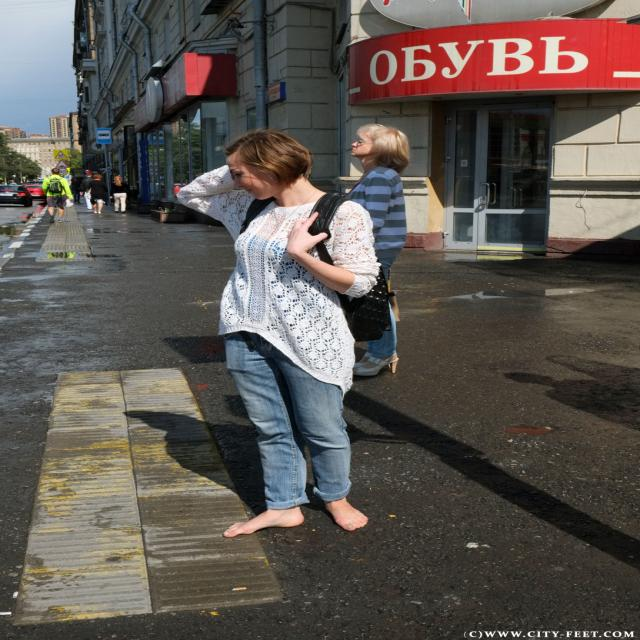Barefoots: (222, 509, 305, 537), (324, 497, 368, 531)
